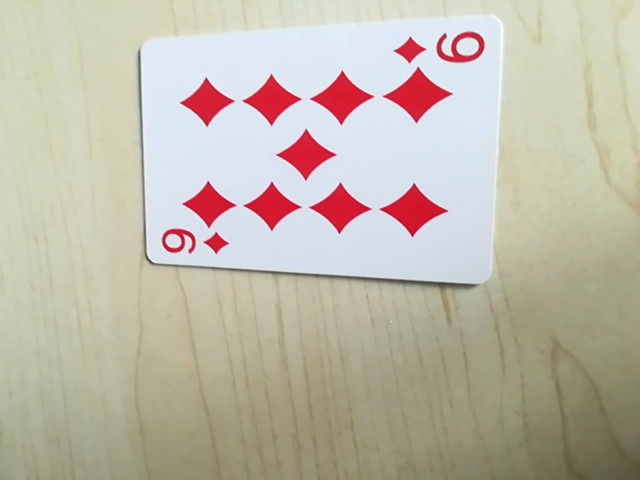fk 9: (395, 21, 491, 74), (156, 223, 234, 265)
